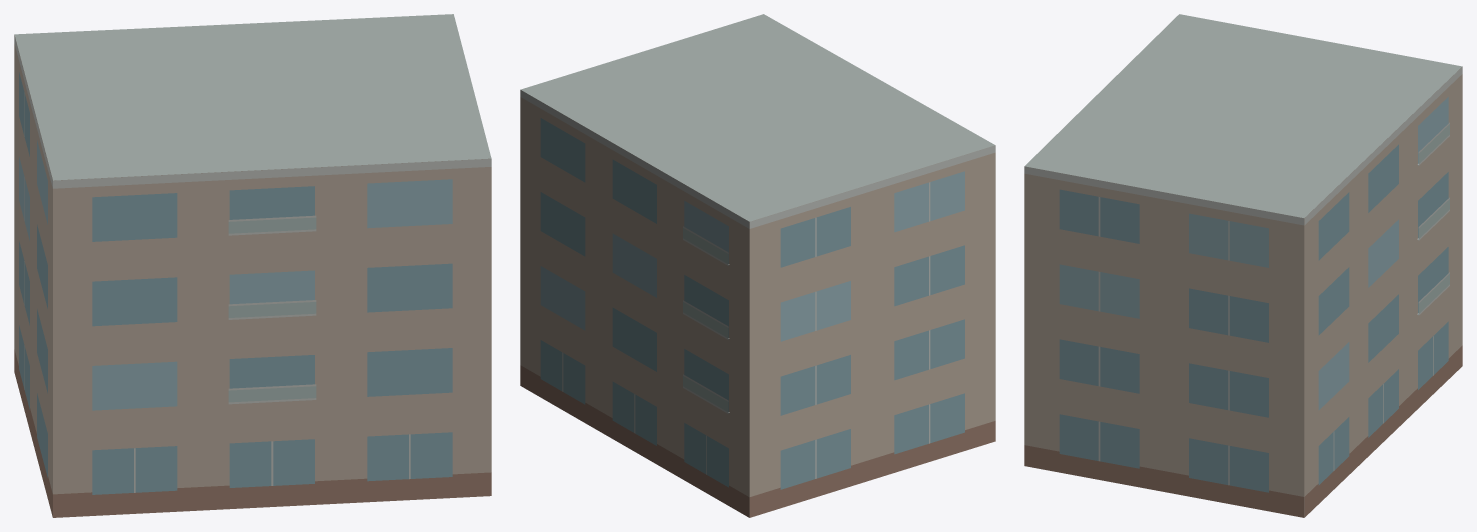
The model's file is survey-upis-32524316.glb.
3 views of the same model, side by side, from view 1: azimuth 30°, elevation 25°; view 2: azimuth 150°, elevation 25°; view 3: azimuth 270°, elevation 25° (orthographic). The views are drawn at different scales.
Parts seen in each view (by area): view 1: survey-upis-32524316.tmp; view 2: survey-upis-32524316.tmp; view 3: survey-upis-32524316.tmp.
Part boxes in pixels (<box>): survey-upis-32524316.tmp: <box>14,14,491,517</box>; survey-upis-32524316.tmp: <box>520,14,995,517</box>; survey-upis-32524316.tmp: <box>1024,14,1462,517</box>.
Size of the model in its own units: 14.63 by 10 by 13.26.
